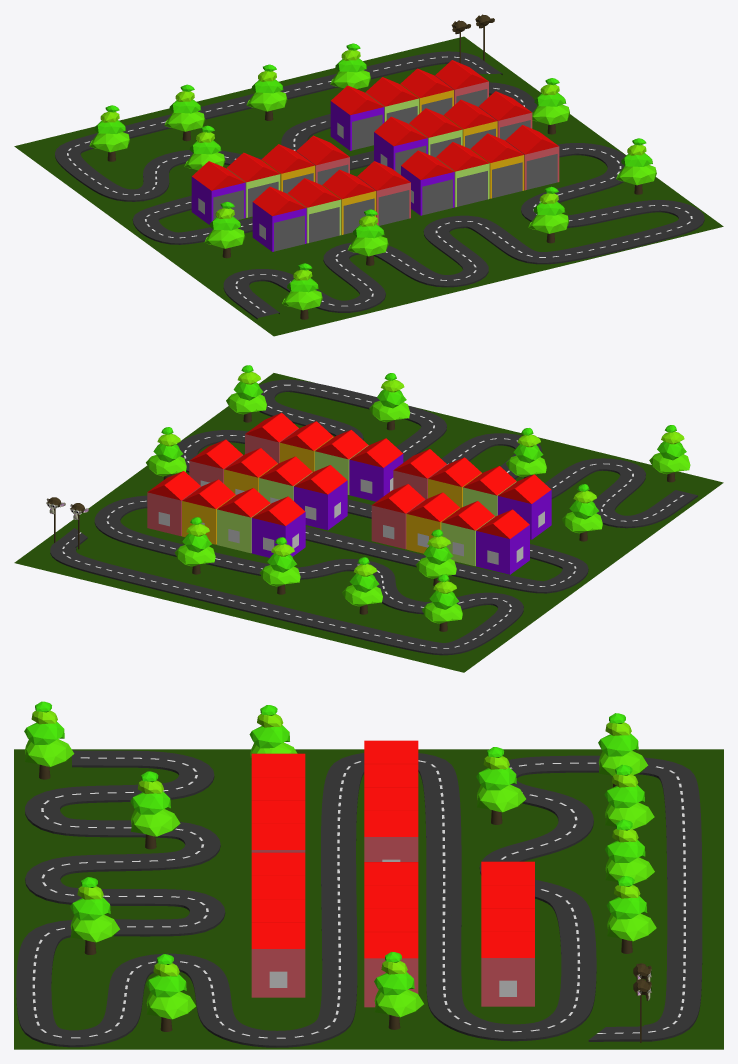
The model's file is Level 3.fbx.
3 views of the same model, one above another, from view 1: azimuth 30°, elevation 25°; view 2: azimuth 150°, elevation 25°; view 3: azimuth 270°, elevation 25° (orthographic). The views are drawn at different scales.
Parts seen in each view (by area): view 1: Grass, Road, Houses, Houses.001, Houses.002, Houses.003, Houses.004, Tree.009, Tree.004, Tree.005, Tree, Tree.010 (+6 smaller); view 2: Grass, Road, Houses.003, Houses.002, Houses.004, Houses, Houses.001, Tree.006, Tree.007, Tree.004, Tree.001, Tree.005 (+7 smaller); view 3: Grass, Road, Houses, Houses.002, Houses.003, Houses.004, Houses.001, Tree.008, Tree.006, Tree.003, Tree.002, Tree.010 (+7 smaller).
Part boxes in pixels (box(x1,y1,x2,y2)): Grass: box(14, 36, 723, 336); Road: box(55, 51, 704, 319); Houses: box(401, 125, 559, 215); Houses.001: box(252, 161, 410, 251); Houses.002: box(330, 60, 488, 150); Houses.003: box(191, 135, 349, 224); Houses.004: box(374, 91, 532, 174); Tree.009: box(616, 138, 656, 194); Tree.004: box(89, 105, 129, 161); Tree.005: box(164, 84, 205, 141); Tree: box(528, 186, 569, 243); Tree.010: box(282, 263, 322, 319); Grass: box(14, 373, 723, 672); Road: box(50, 379, 697, 655); Houses.003: box(371, 484, 529, 574); Houses.002: box(147, 471, 305, 557); Houses.004: box(189, 439, 347, 530); Houses: box(245, 413, 403, 501); Houses.001: box(393, 449, 551, 539); Tree.006: box(174, 517, 215, 574); Tree.007: box(259, 537, 300, 594); Tree.004: box(422, 574, 462, 631); Tree.001: box(562, 484, 602, 541); Tree.005: box(342, 557, 382, 614); Grass: box(14, 749, 723, 1049); Road: box(16, 750, 702, 1047); Houses: box(251, 852, 305, 997); Houses.002: box(481, 861, 534, 1006); Houses.003: box(364, 740, 418, 861); Houses.004: box(364, 862, 418, 1007); Houses.001: box(251, 753, 305, 852); Tree.008: box(130, 771, 180, 849); Tree.006: box(606, 876, 656, 953); Tree.003: box(476, 747, 526, 824); Tree.002: box(374, 951, 423, 1029); Tree.010: box(24, 701, 74, 779).
Bounding box in the file's own units: 6575 × 774 × 6575.
